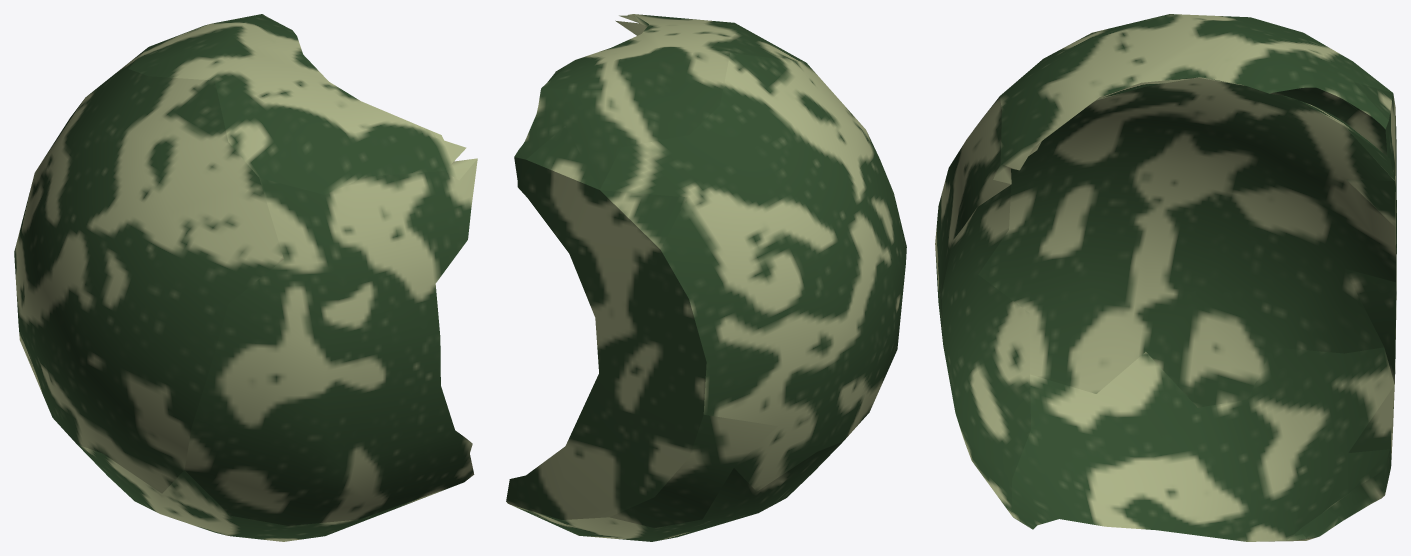
Rendered from link_body_12_composite.obj.
3 renders of one model, left to right at view 1: azimuth 30°, elevation 25°; view 2: azimuth 150°, elevation 25°; view 3: azimuth 270°, elevation 25°, orthographic. The views are drawn at different scales.
Visible parts, largest first — view 1: link_body_12; view 2: link_body_12; view 3: link_body_12.
Boxes of the visible parts, x1,y1,x2,y2 form: link_body_12: [14, 14, 477, 541]; link_body_12: [506, 14, 906, 541]; link_body_12: [935, 14, 1396, 541].
Bounding box in the file's own units: 11.43 × 15.08 × 12.69.
1 material, 1 textured.
